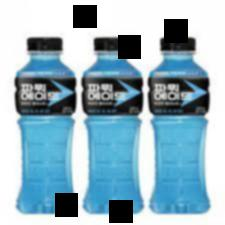powerade_mountainblast: (78, 34, 147, 216), (12, 34, 81, 216), (148, 33, 214, 215)
